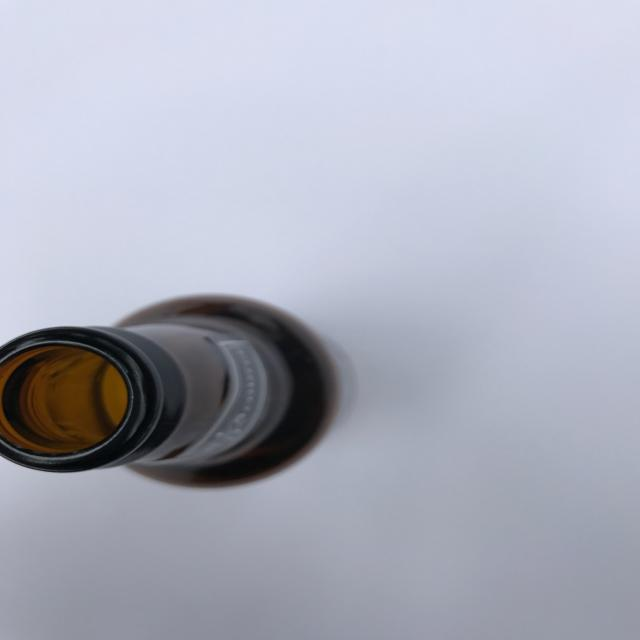glass: (0, 292, 342, 489)
